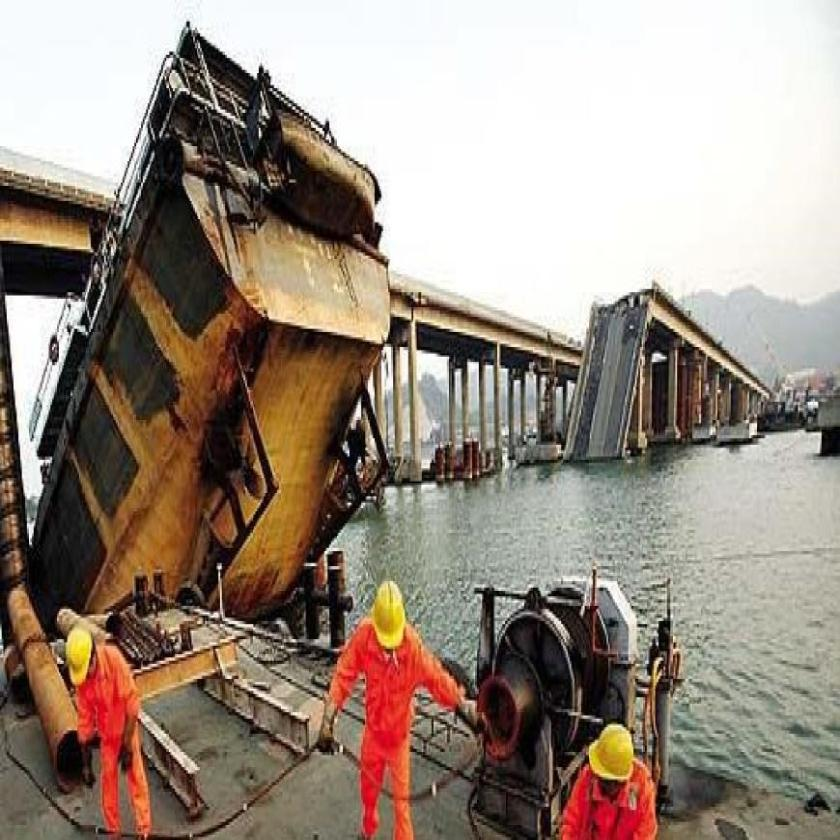Con_casco: (585, 721, 638, 799), (64, 622, 99, 689)
